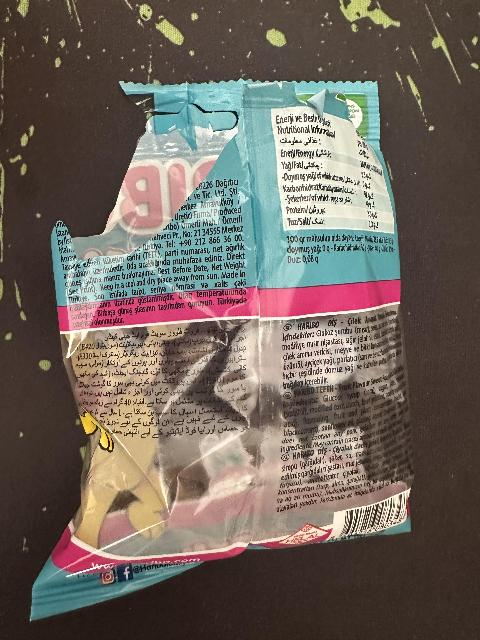Plastik: (32, 76, 422, 616)
